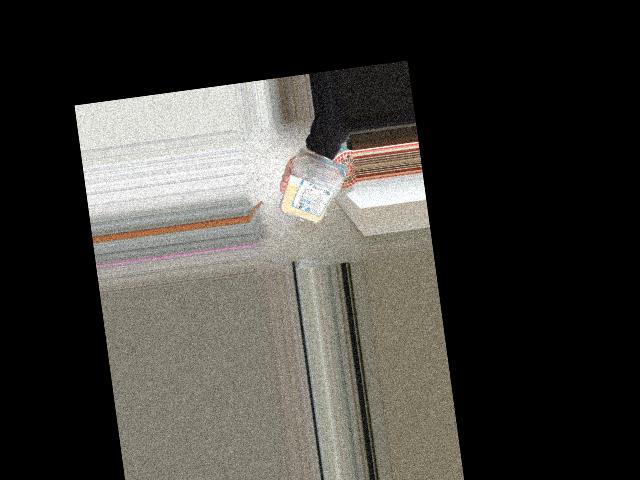cheese: (280, 148, 353, 232)
